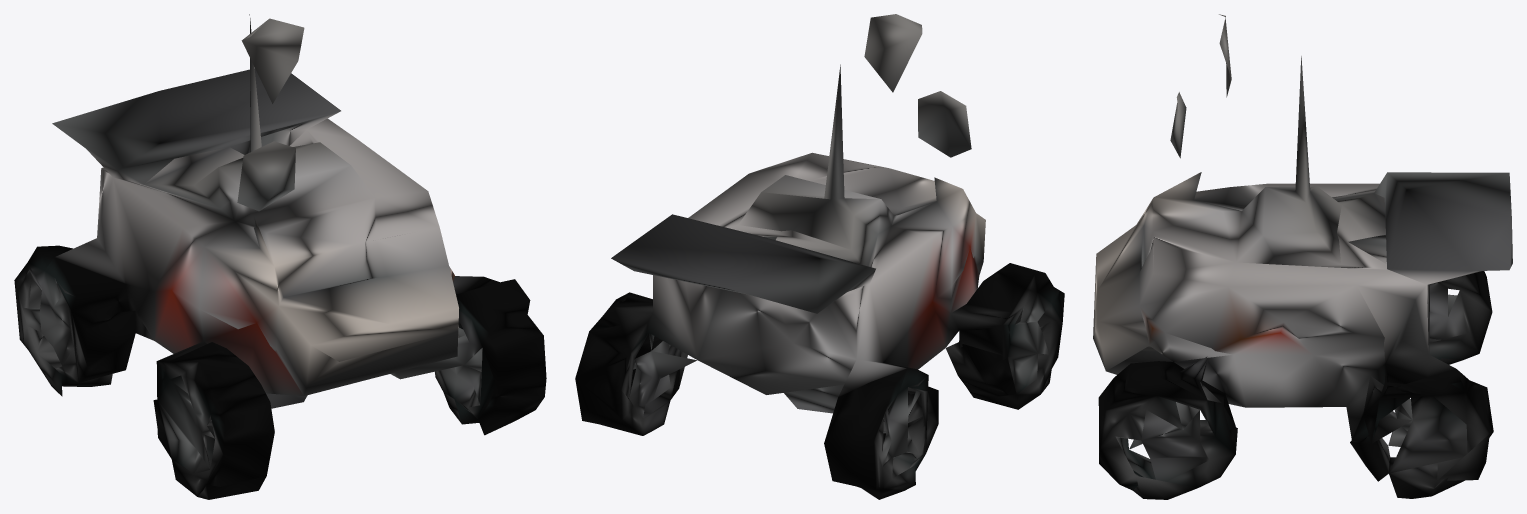
Rendered from gen3d-moon-rover-lod1.glb.
3 views of the same model, side by side, from view 1: azimuth 30°, elevation 25°; view 2: azimuth 150°, elevation 25°; view 3: azimuth 270°, elevation 25° (orthographic). The views are drawn at different scales.
Visible parts, largest first — view 1: part_0; view 2: part_0; view 3: part_0.
Part boxes in pixels (left/top/right/bottom): part_0: left=14, top=14, right=546, bottom=499; part_0: left=575, top=14, right=1064, bottom=499; part_0: left=1093, top=14, right=1512, bottom=499.
Size of the model in its own units: 0.8104 by 0.9945 by 0.9619.
